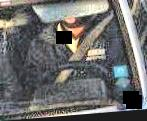seatbelt: (63, 10, 115, 75)
